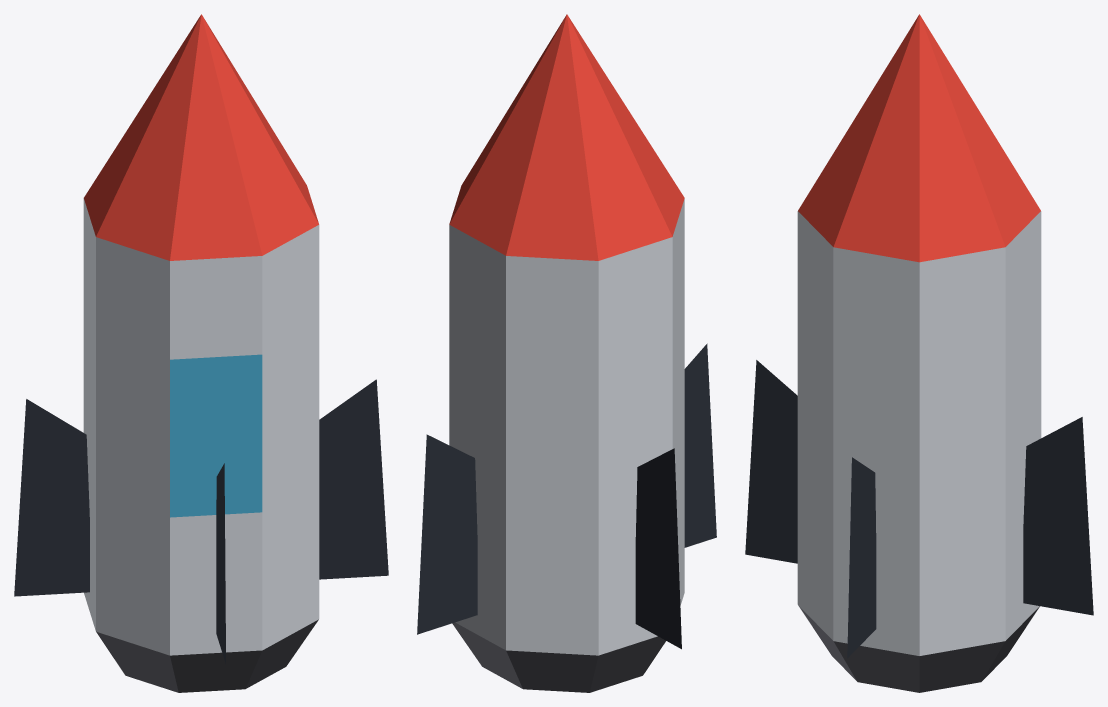
The model's file is rocket.obj.
3 renders of one model, left to right at view 1: azimuth 30°, elevation 25°; view 2: azimuth 150°, elevation 25°; view 3: azimuth 270°, elevation 25°, orthographic.
Bounding box in the file's own units: 0.8019 × 1.63 × 0.8019.
